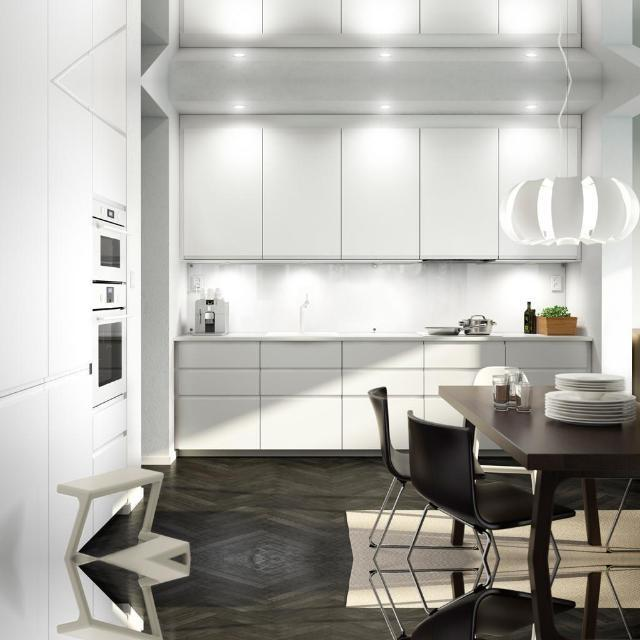obstacle: (362, 364, 640, 558), (362, 558, 639, 640), (34, 462, 198, 558), (34, 558, 198, 640)
